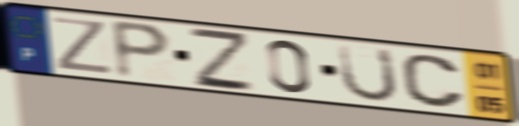0: (264, 38, 312, 95)
C: (399, 52, 469, 111)
P: (108, 17, 174, 82)
U: (335, 42, 400, 104)
Z: (185, 25, 258, 94), (49, 14, 117, 76)
